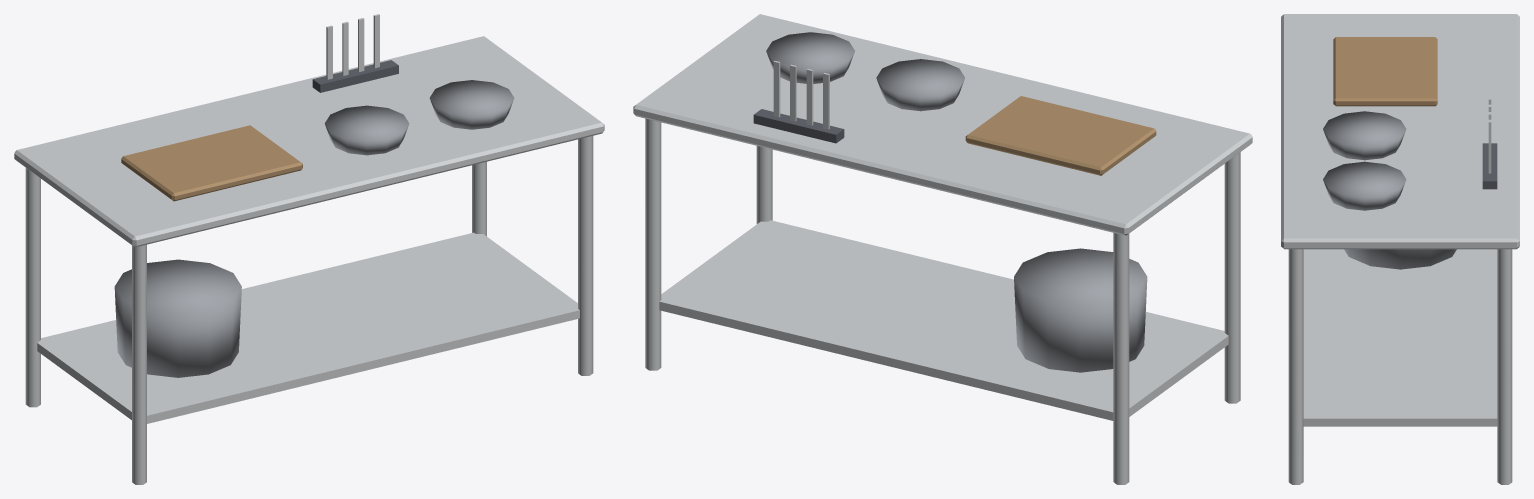
File: prep_table.glb
3 renders of one model, left to right at view 1: azimuth 30°, elevation 25°; view 2: azimuth 150°, elevation 25°; view 3: azimuth 270°, elevation 25°, orthographic. The views are drawn at different scales.
Parts seen in each view (by area): view 1: prep_table; view 2: prep_table; view 3: prep_table.
Part boxes in pixels (bbox=[...]): prep_table: bbox=[14, 14, 604, 484]; prep_table: bbox=[633, 14, 1252, 484]; prep_table: bbox=[1281, 14, 1519, 484].
Size of the model in its own units: 1.8 by 1.14 by 0.8.
